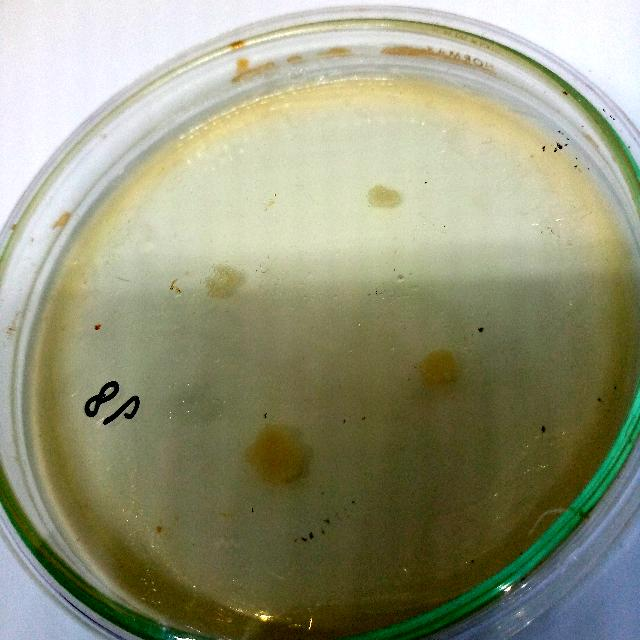colony: (238, 417, 322, 495), (198, 260, 252, 306), (415, 342, 461, 392), (362, 178, 403, 216)
